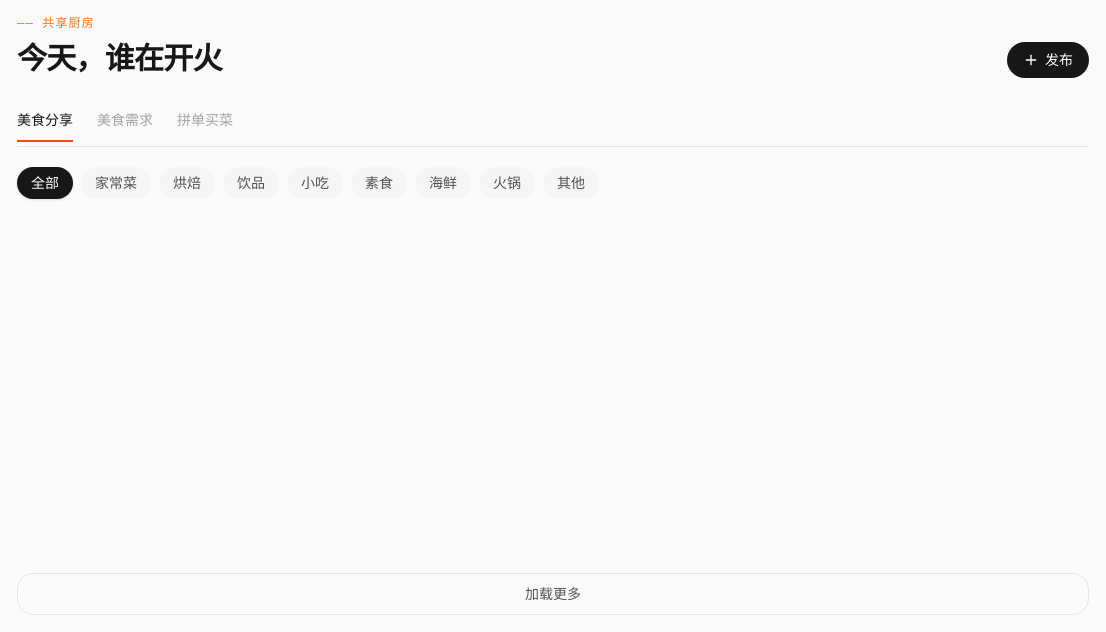
Test: SharedKitchen/index 共享厨房列表页 › 拼单空列表显示"暂无拼单"
This screenshot has width=1106, height=632.
Click the button "拼单买菜". click: (205, 126)
box: [177,110,233,142]
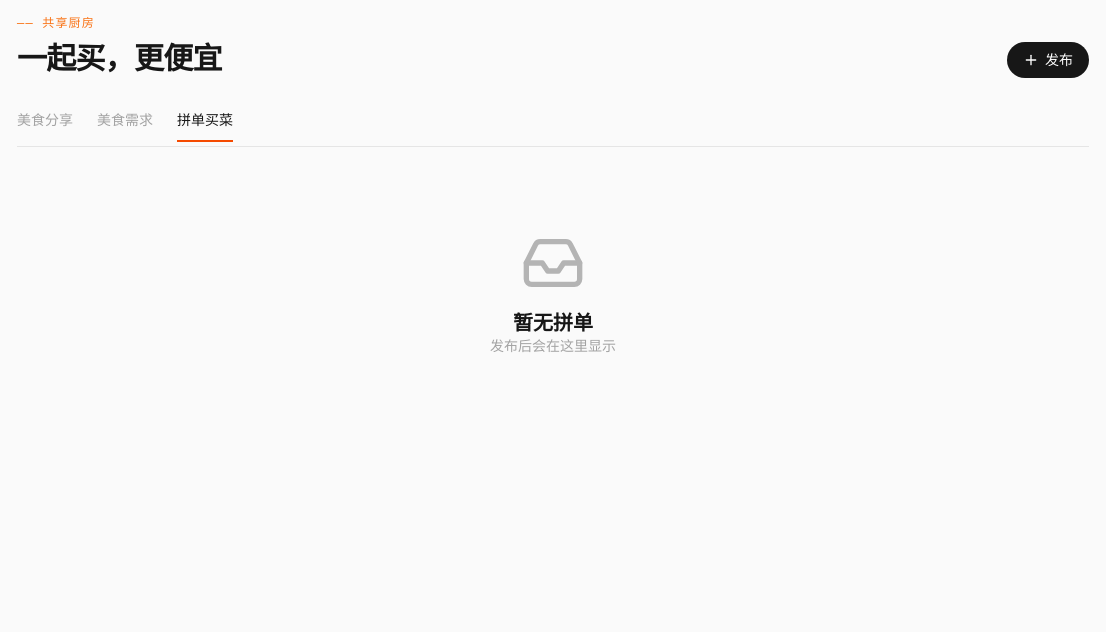
expect the heading "暂无拼单" is shown: met, box [513,310,593,336]
